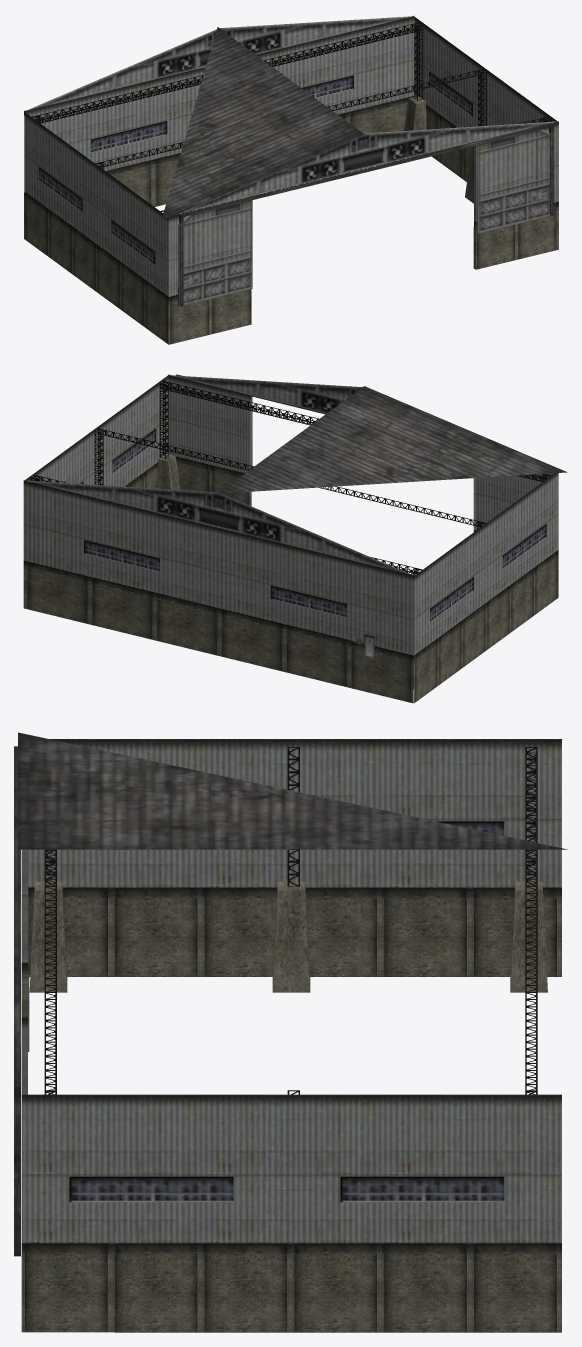
File: AirHang1.glb
The picture shows the model from 3 angles, top to bottom: view 1: azimuth 30°, elevation 25°; view 2: azimuth 150°, elevation 25°; view 3: azimuth 270°, elevation 25°; orthographic projection. The views are drawn at different scales.
Visible parts, largest first — view 1: _AirHang1; view 2: _AirHang1; view 3: _AirHang1.
Part boxes in pixels (<box>): _AirHang1: <box>24,16,558,344</box>; _AirHang1: <box>23,374,566,703</box>; _AirHang1: <box>14,732,567,1332</box>.
Bounding box in the file's own units: 72.59 × 27.87 × 45.85.
Materials: 3 (3 with a texture image).
